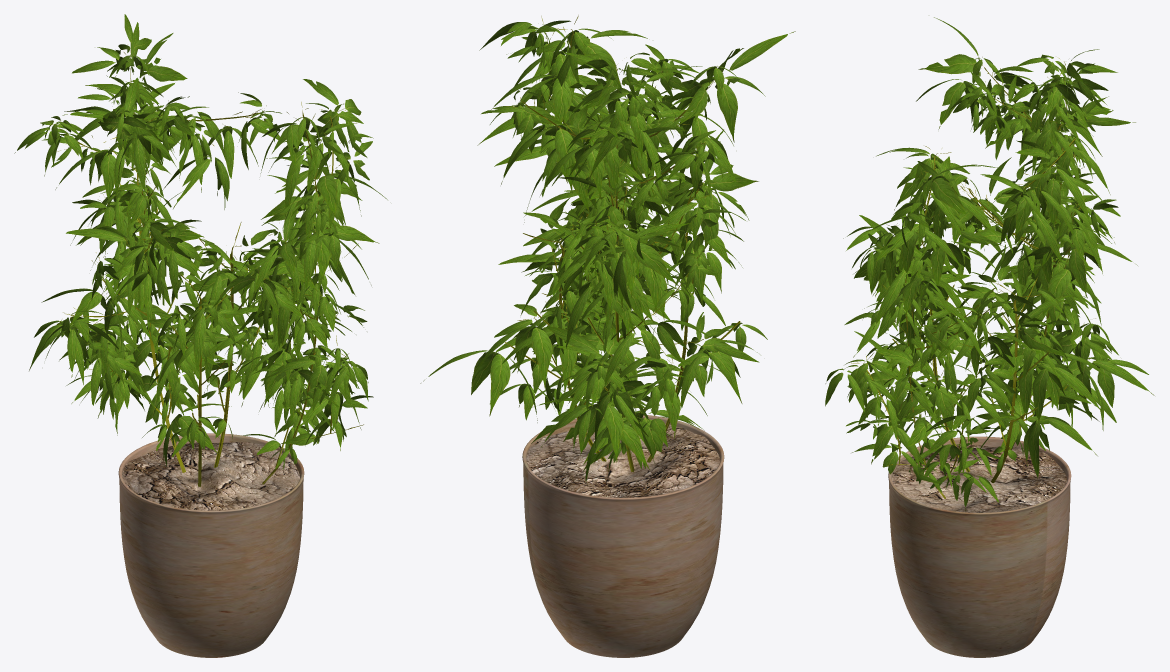
The picture shows the model from 3 angles, left to right: view 1: azimuth 30°, elevation 25°; view 2: azimuth 150°, elevation 25°; view 3: azimuth 270°, elevation 25°; orthographic projection. The views are drawn at different scales.
Visible parts, largest first — view 1: 222_Feuilles_0, 16___Default, 1_Terre_pot_0, 7_Tige_0; view 2: 222_Feuilles_0, 16___Default, 1_Terre_pot_0, 7_Tige_0; view 3: 222_Feuilles_0, 16___Default, 1_Terre_pot_0, 7_Tige_0.
Part boxes in pixels (bbox=[...]): 222_Feuilles_0: bbox=[14, 14, 387, 469]; 16___Default: bbox=[118, 433, 304, 657]; 1_Terre_pot_0: bbox=[122, 441, 299, 510]; 7_Tige_0: bbox=[50, 48, 363, 486]; 222_Feuilles_0: bbox=[420, 20, 795, 482]; 16___Default: bbox=[522, 415, 724, 657]; 1_Terre_pot_0: bbox=[526, 424, 720, 497]; 7_Tige_0: bbox=[505, 15, 740, 472]; 222_Feuilles_0: bbox=[825, 17, 1154, 510]; 16___Default: bbox=[888, 436, 1071, 657]; 1_Terre_pot_0: bbox=[892, 445, 1067, 512]; 7_Tige_0: bbox=[851, 57, 1097, 498].
Bounding box in the file's own units: 107 × 206 × 108.
Materials: 4 (4 with a texture image).
